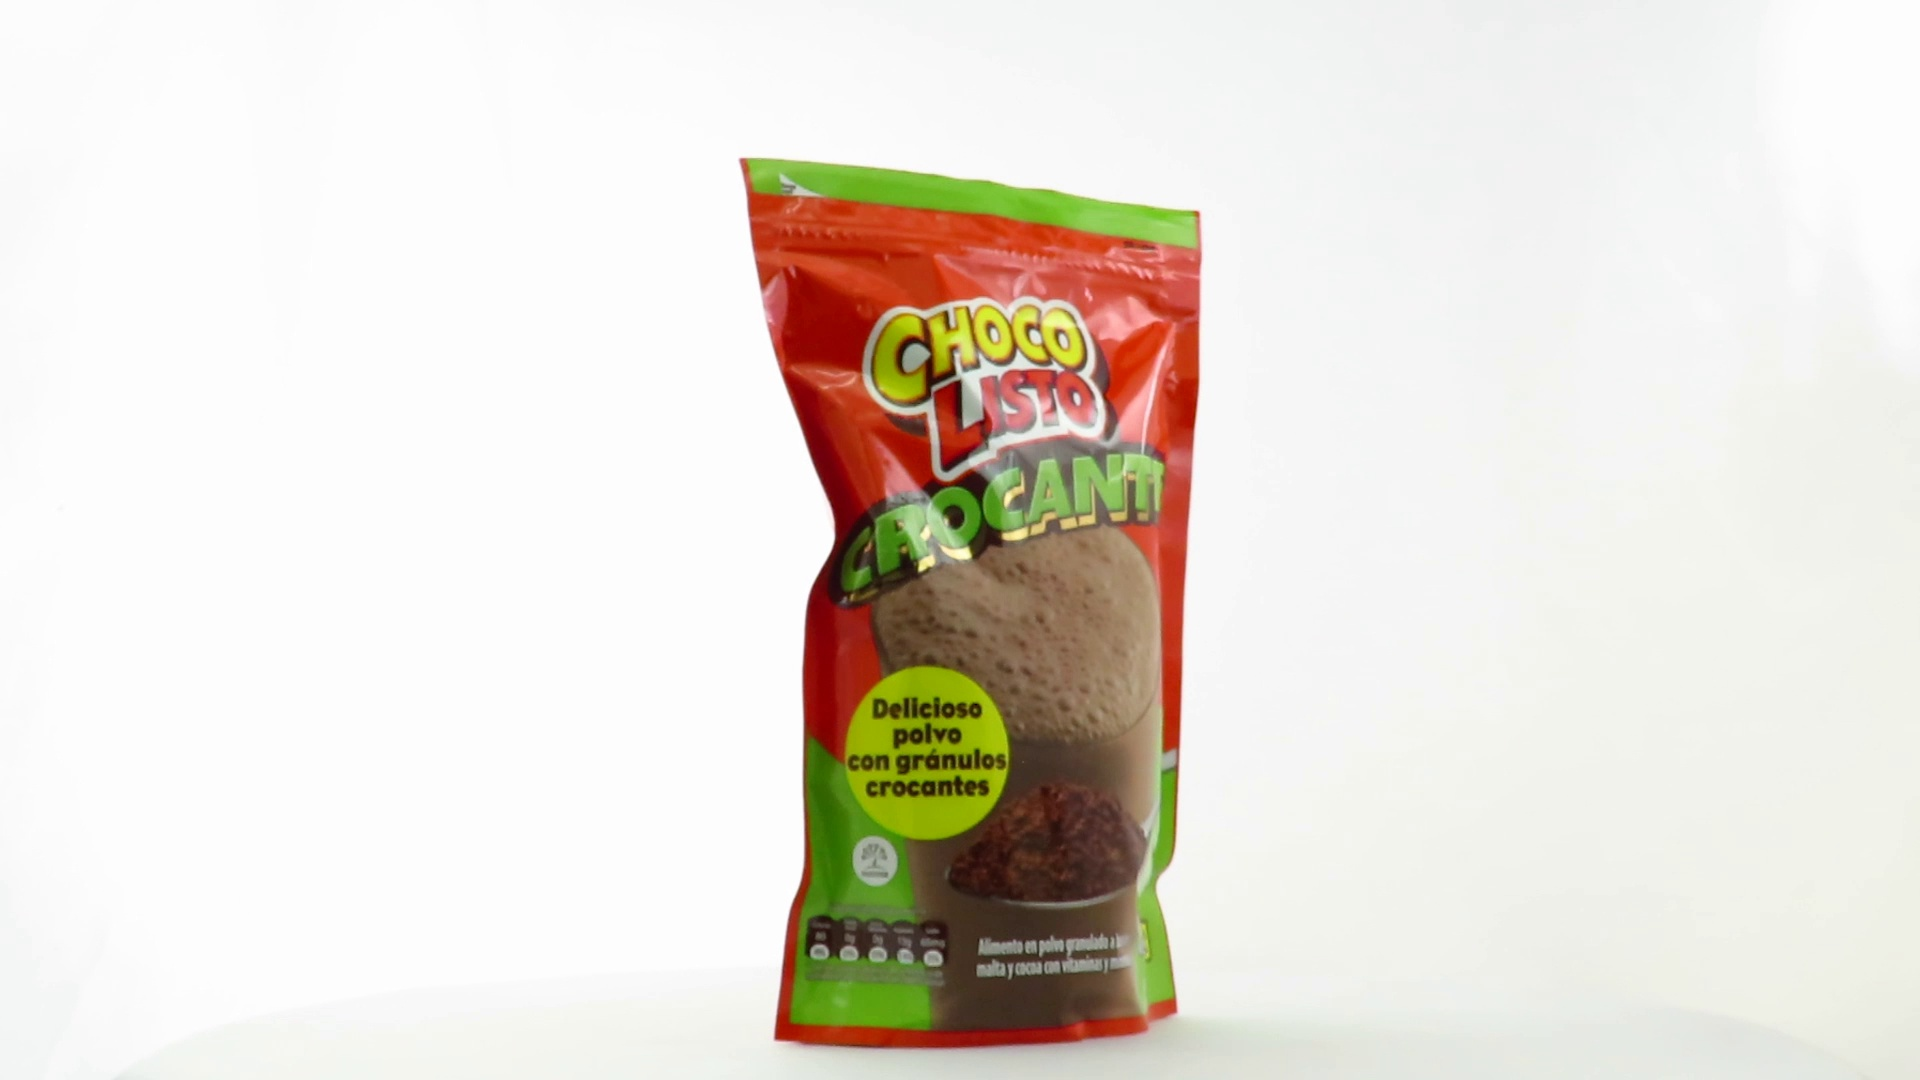COL0170102DYP50000: (735, 152, 1208, 1056)
